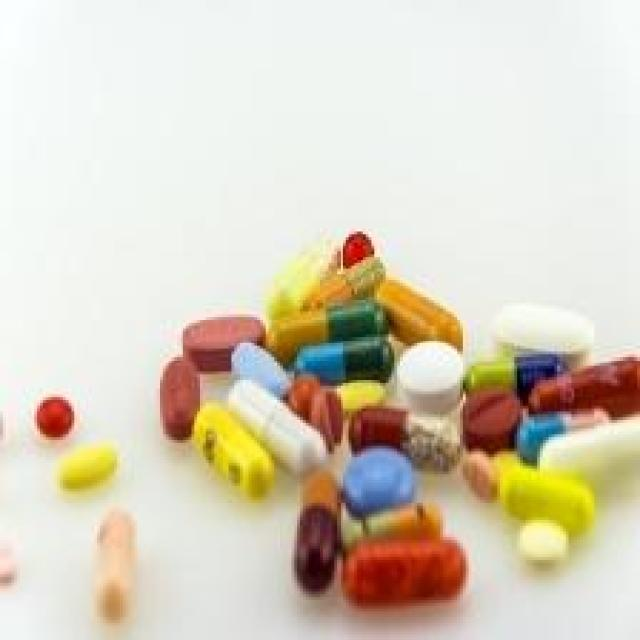Medicine: (0, 112, 640, 640)
